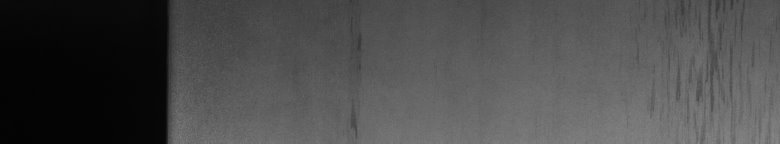ka: (677, 4, 733, 112)
